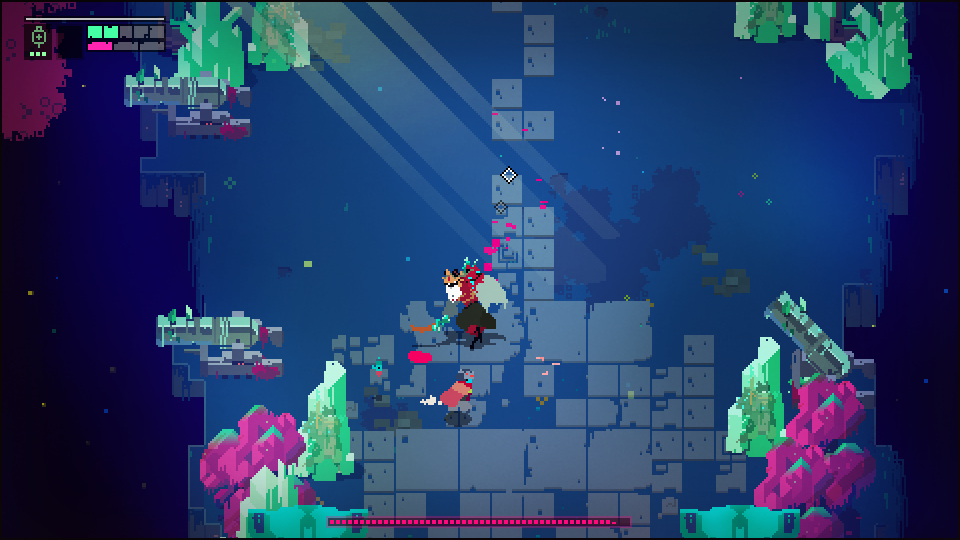hanged_man: (423, 255, 516, 348)
player: (440, 366, 474, 417)
